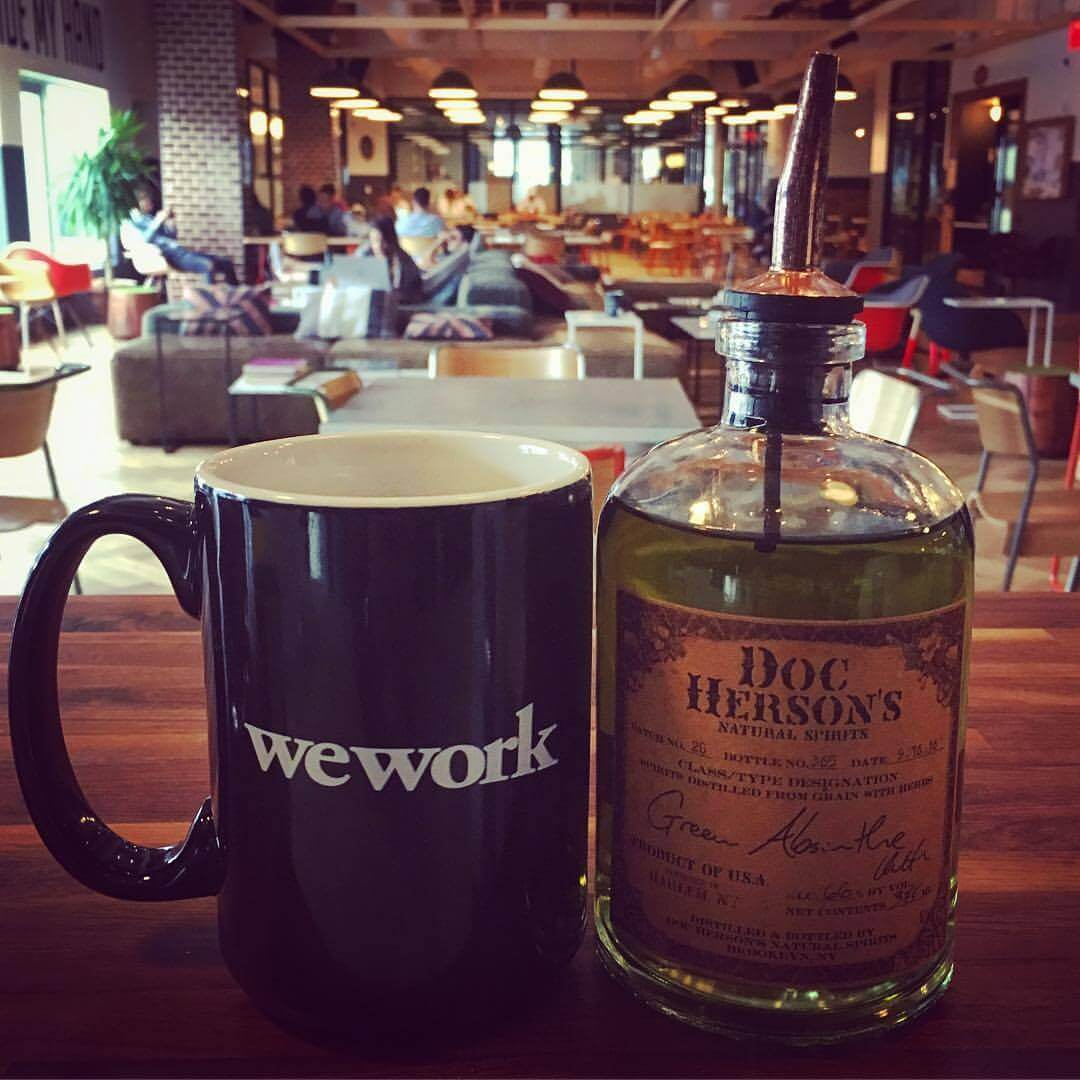wework: (239, 694, 566, 798)
